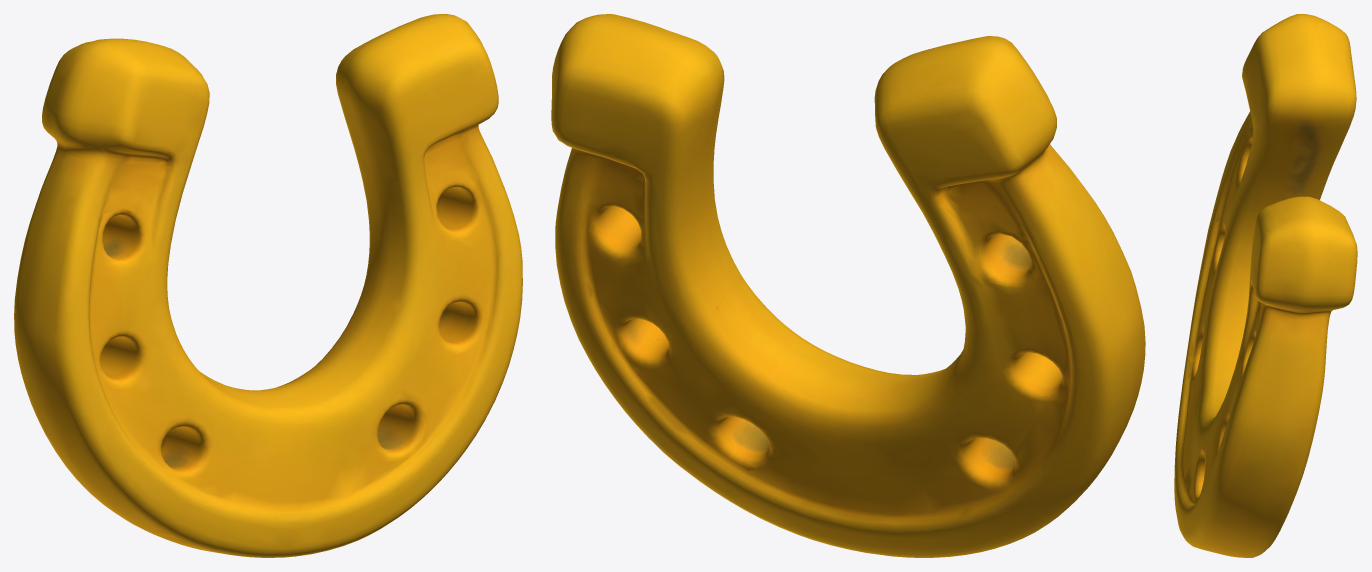
3 renders of one model, left to right at view 1: azimuth 30°, elevation 25°; view 2: azimuth 150°, elevation 25°; view 3: azimuth 270°, elevation 25°, orthographic. The views are drawn at different scales.
Parts seen in each view (by area): view 1: horseshoe; view 2: horseshoe; view 3: horseshoe.
Part boxes in pixels (bbox=[...]): horseshoe: bbox=[14, 14, 522, 557]; horseshoe: bbox=[551, 14, 1145, 557]; horseshoe: bbox=[1174, 14, 1357, 557].
Size of the model in its own units: 0.0996 by 0.0999 by 0.0368.
1 material, 1 textured.
